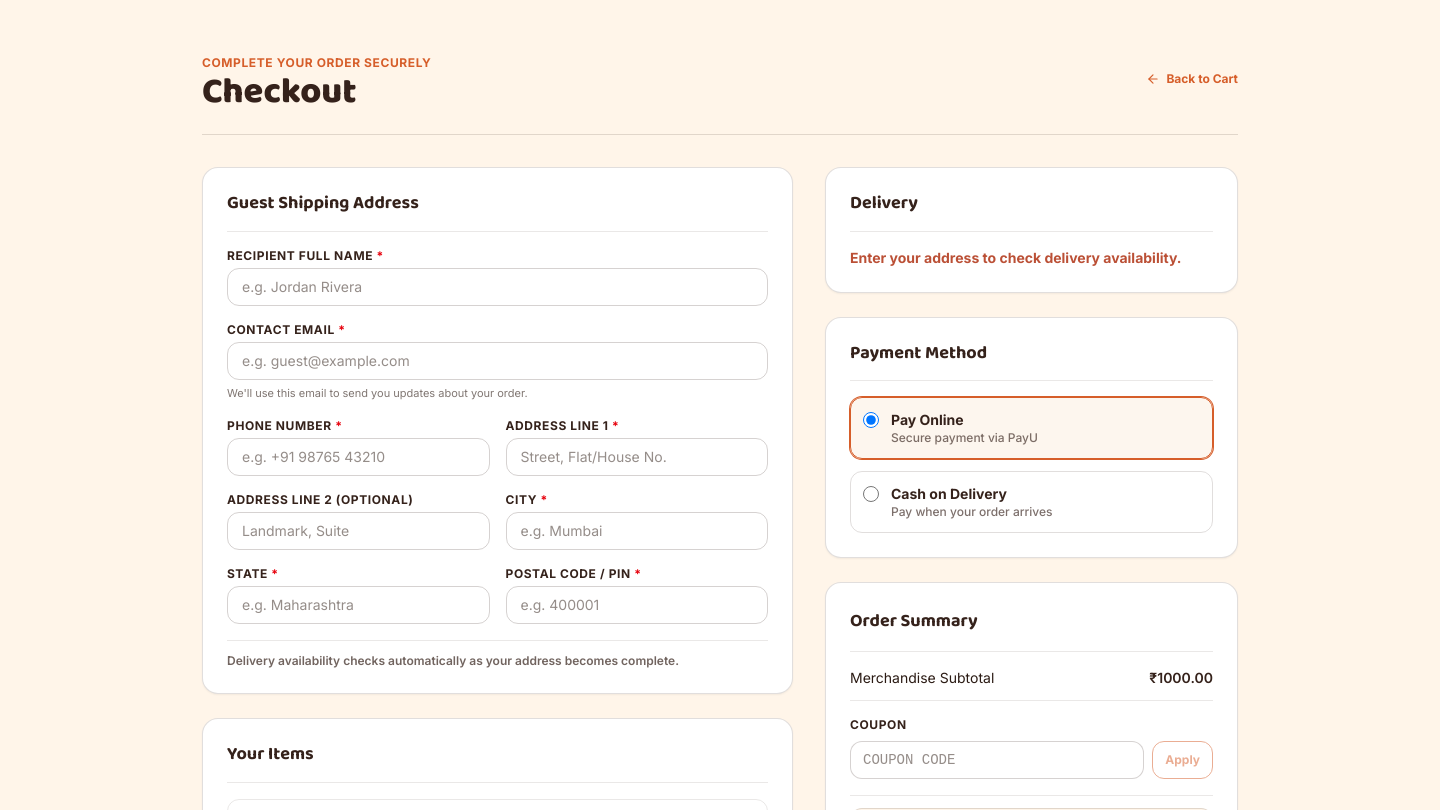
Scenario: Checkout product payment-method availability › PayU-only cart: COD is disabled with an explanation and PayU stays selectable
The width and height of the screenshot is (1440, 810).
Expected: the heading "Guest Shipping Address" is shown, [227, 192, 419, 215]
Type "Guest User" into the field labelled "Recipient Full Name *" at (498, 287), box [227, 268, 768, 306]
Type "+91 98765 00000" into the field labelled "Phone Number *" at (358, 457), box [227, 438, 490, 476]
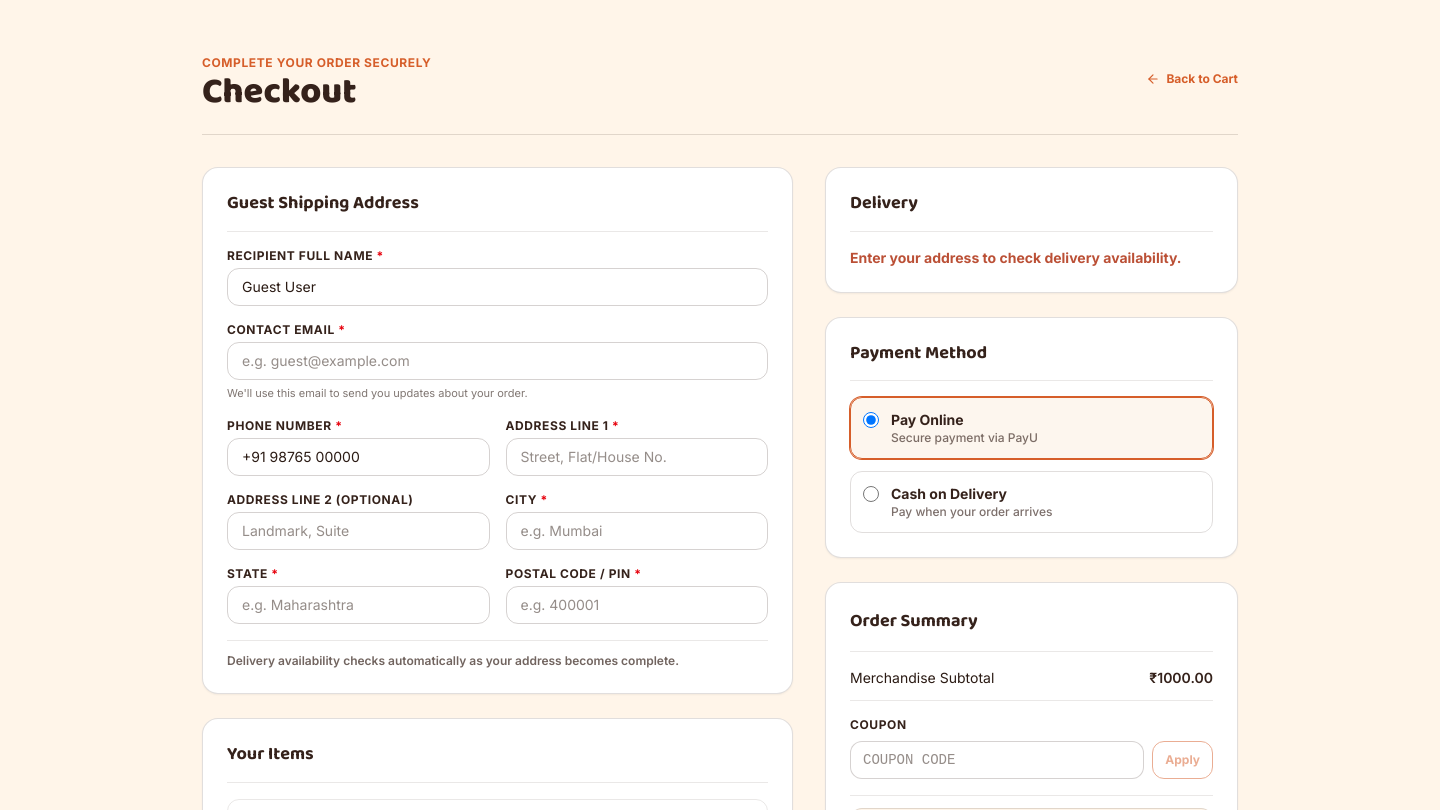
Type "123 Street" into the field labelled "Address Line 1 *" at (637, 457), box [506, 438, 768, 476]
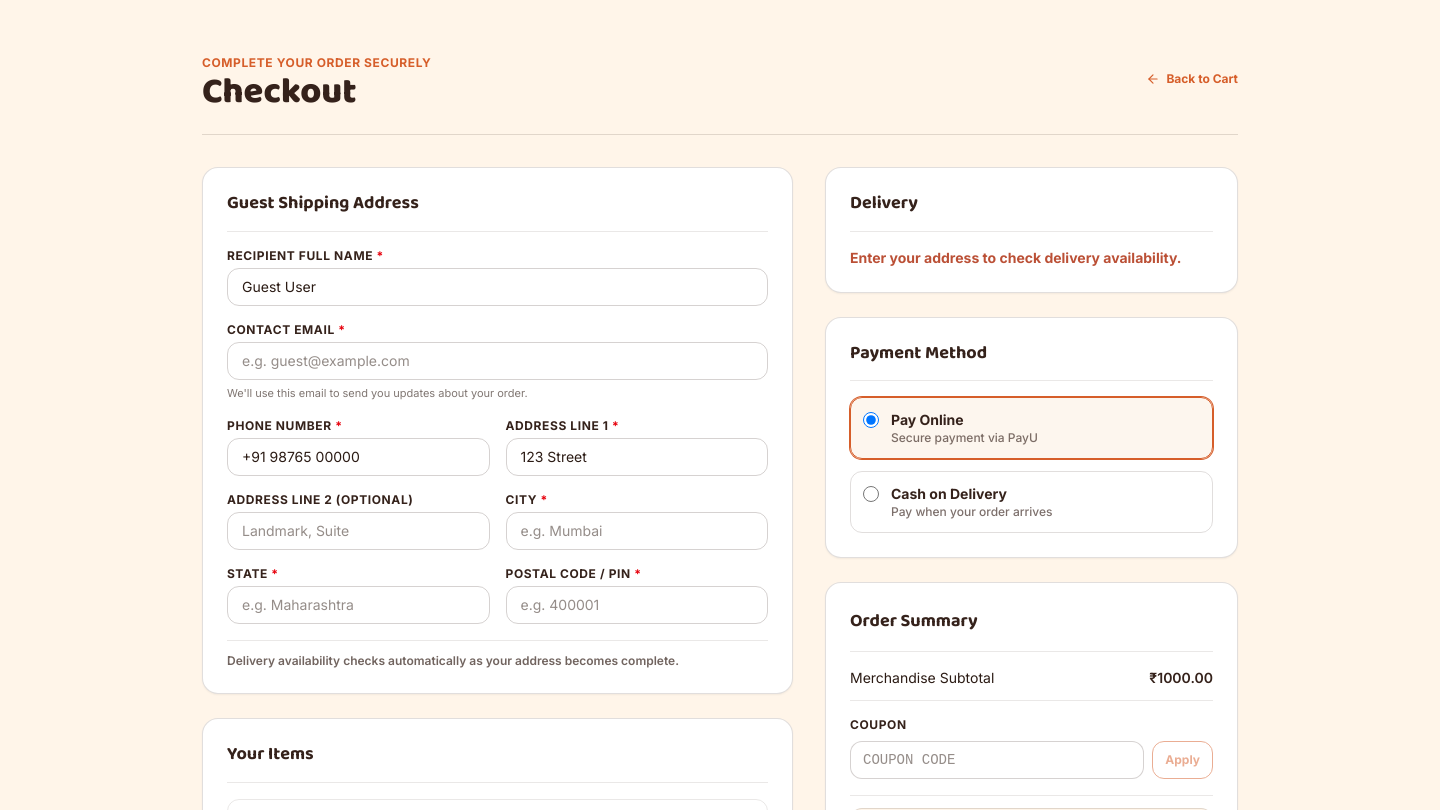
Type "Mumbai" into the field labelled "City *" at (637, 531), box [506, 512, 768, 550]
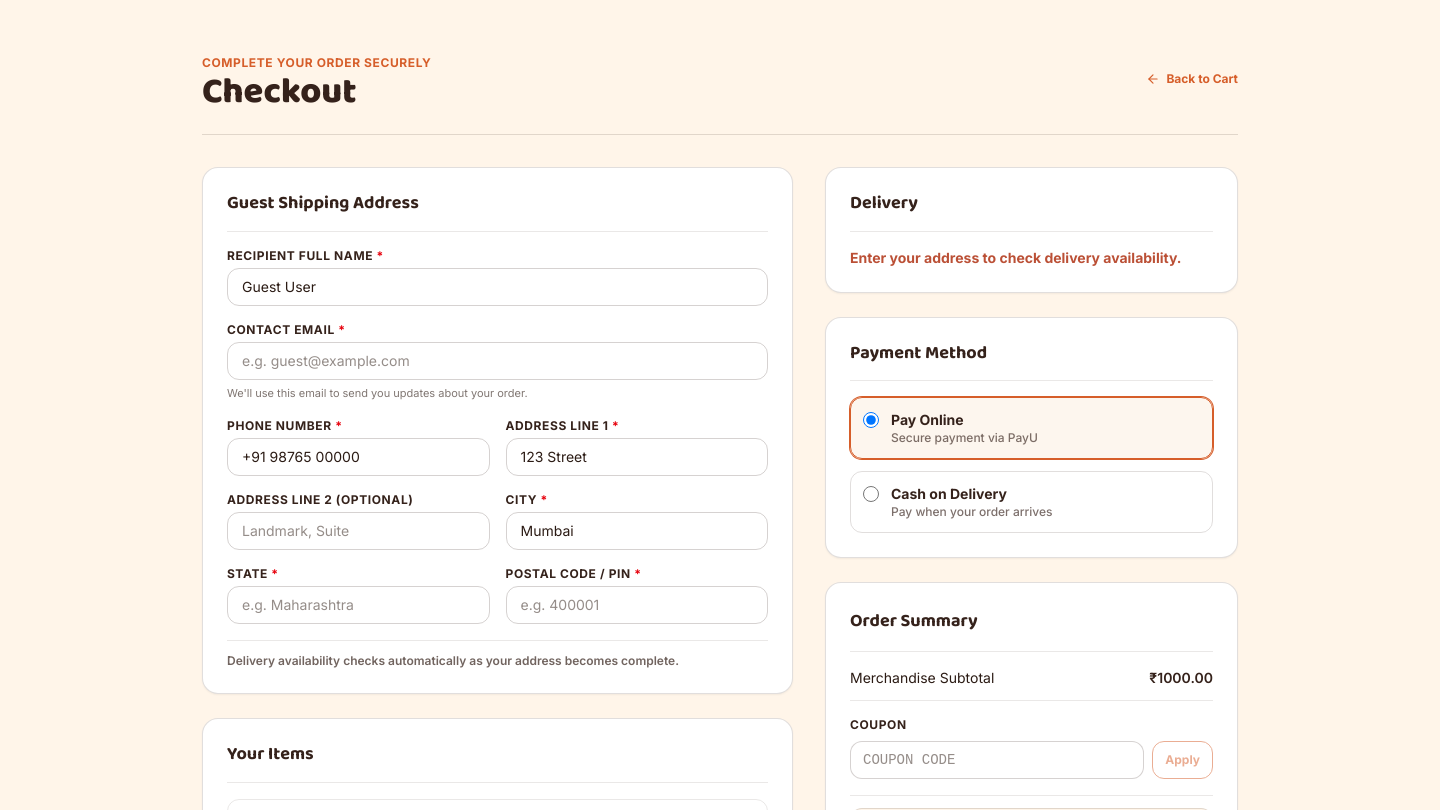
Type "Maharashtra" into the field labelled "State *" at (358, 605), box [227, 586, 490, 624]
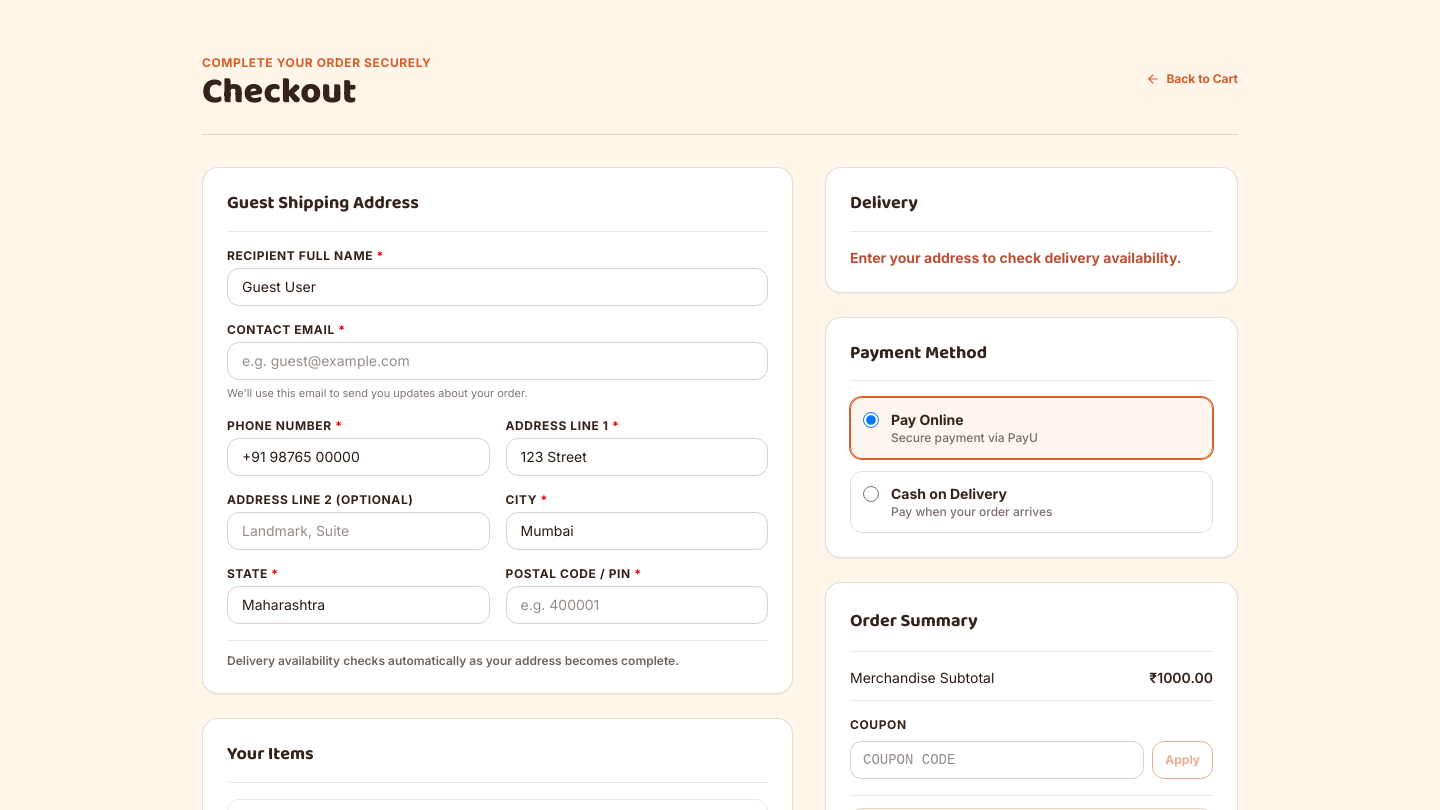
Type "400001" into the field labelled "Postal Code / PIN *" at (637, 605), box [506, 586, 768, 624]
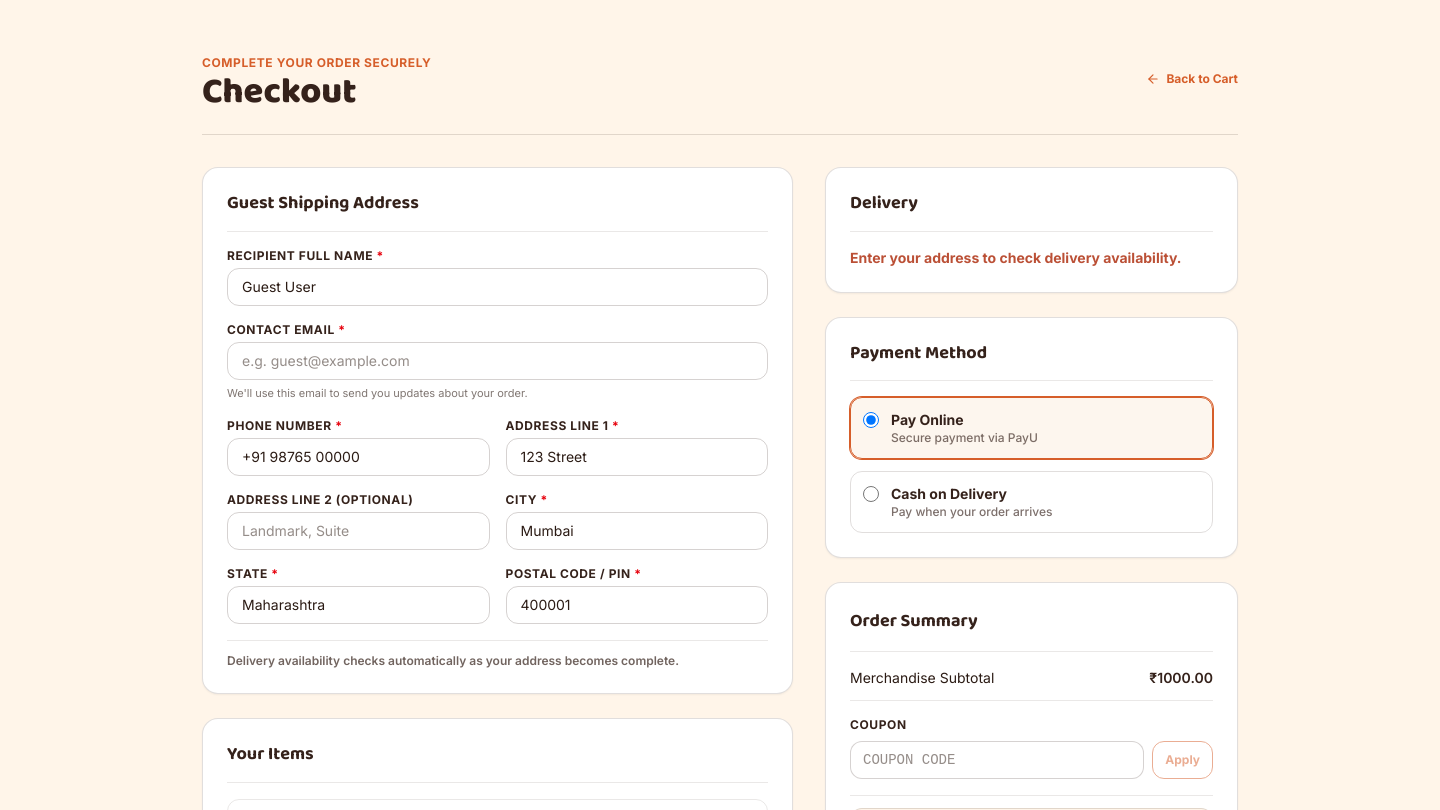
Type "guest@example.com" into the field labelled "Contact Email *" at (498, 361), box [227, 342, 768, 380]
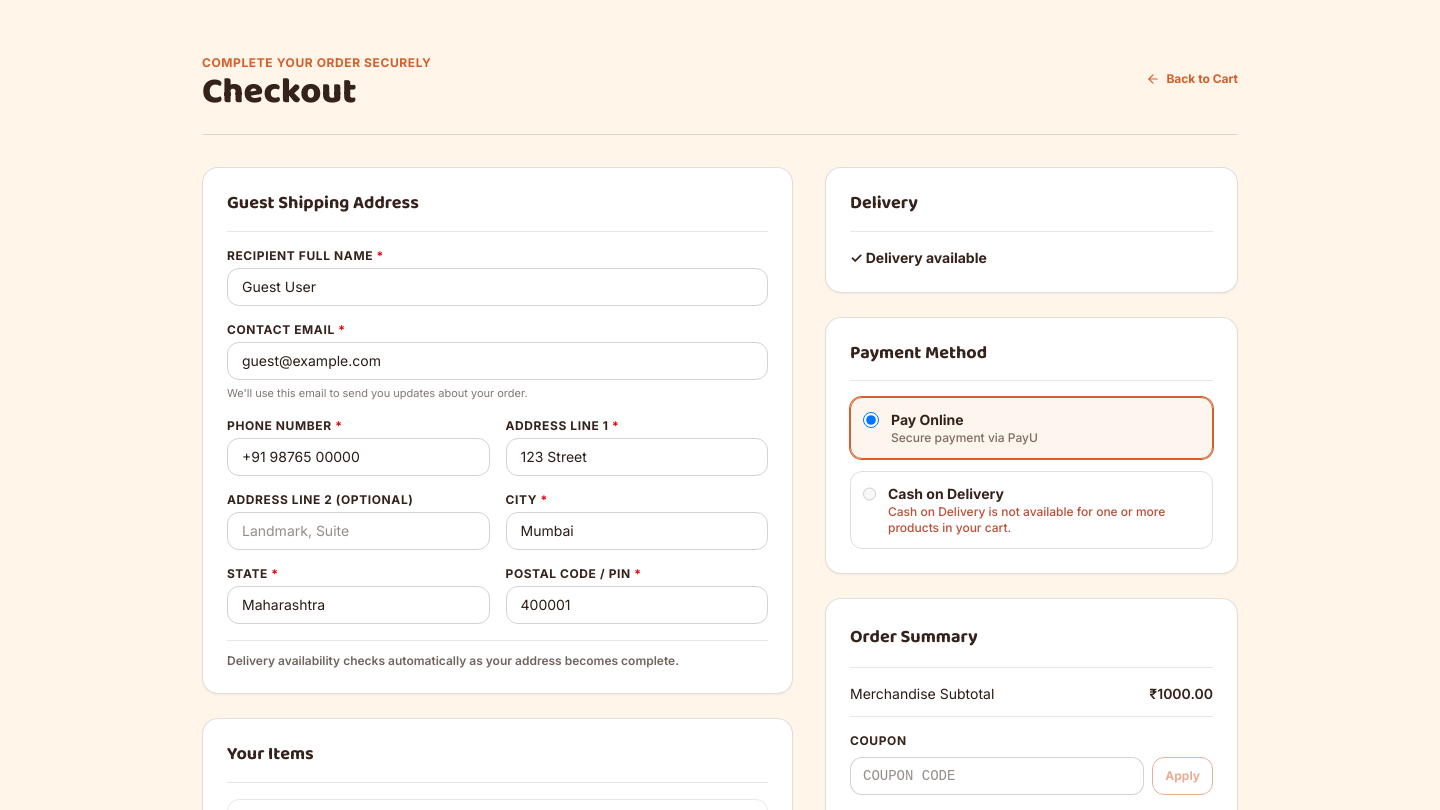
Expected: the radio button labelled "Pay Online Secure payment via PayU" is checked, [863, 412, 879, 428]
Result: the radio button labelled "Cash on Delivery" is disabled at [863, 486, 876, 502]
Result: the text "Cash on Delivery is not available for one or more products in your cart." is shown at [888, 504, 1200, 536]
